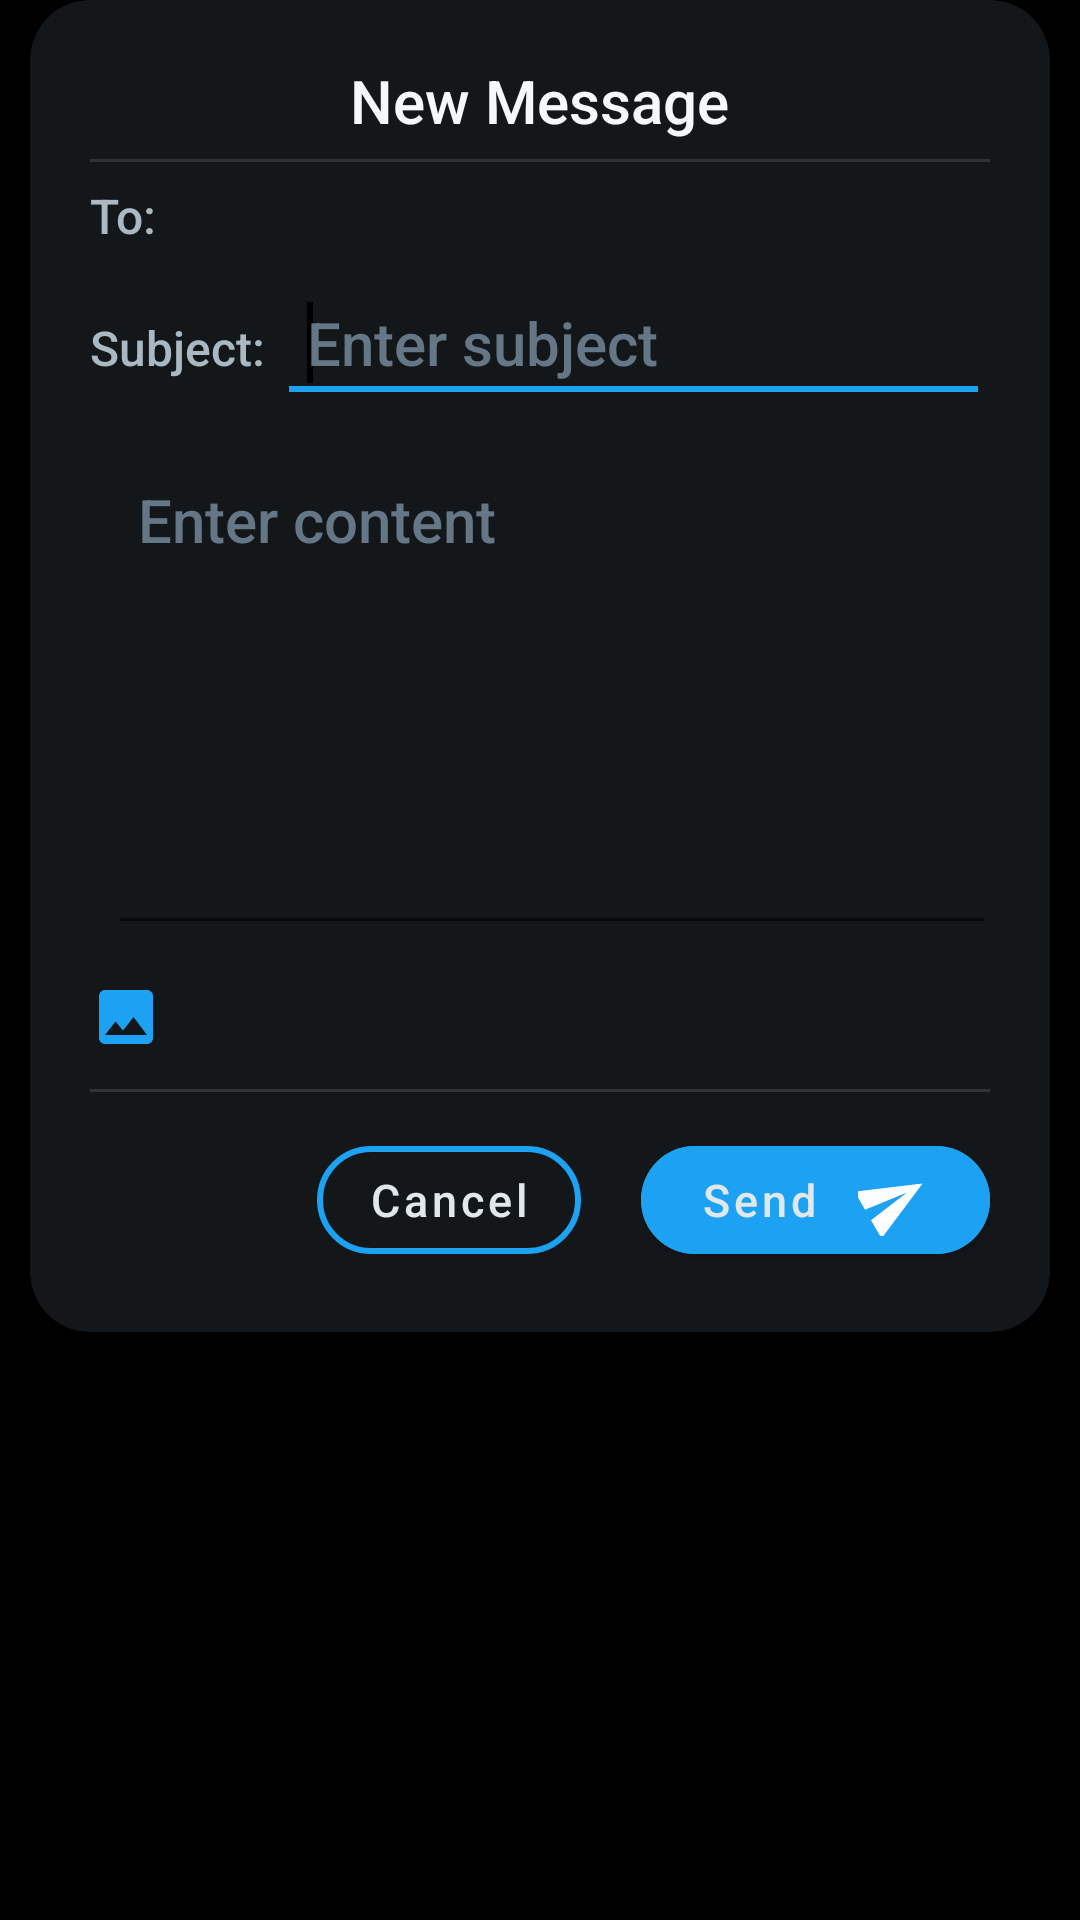

Icon bounding boxes for this 1080px×1920px phone screenshot, format (x1=x1, y1=y1, x2=x2, y2=y2):
select image: (x1=99, y1=990, x2=153, y2=1044)
